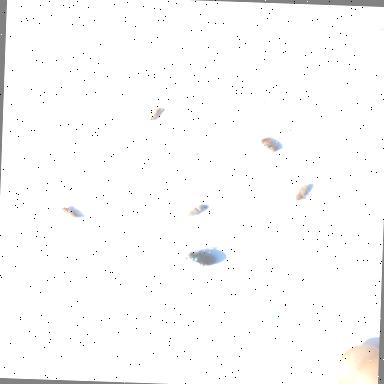pbw: (146, 104, 167, 123)
